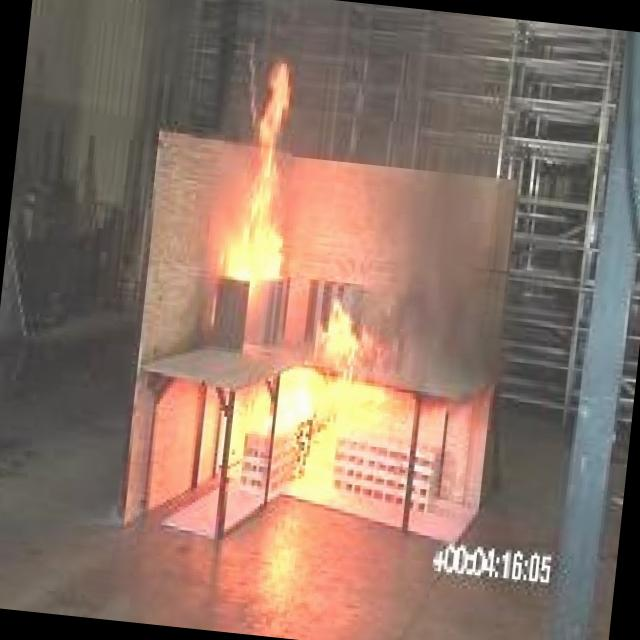fire: (188, 38, 360, 331), (237, 286, 408, 546)
